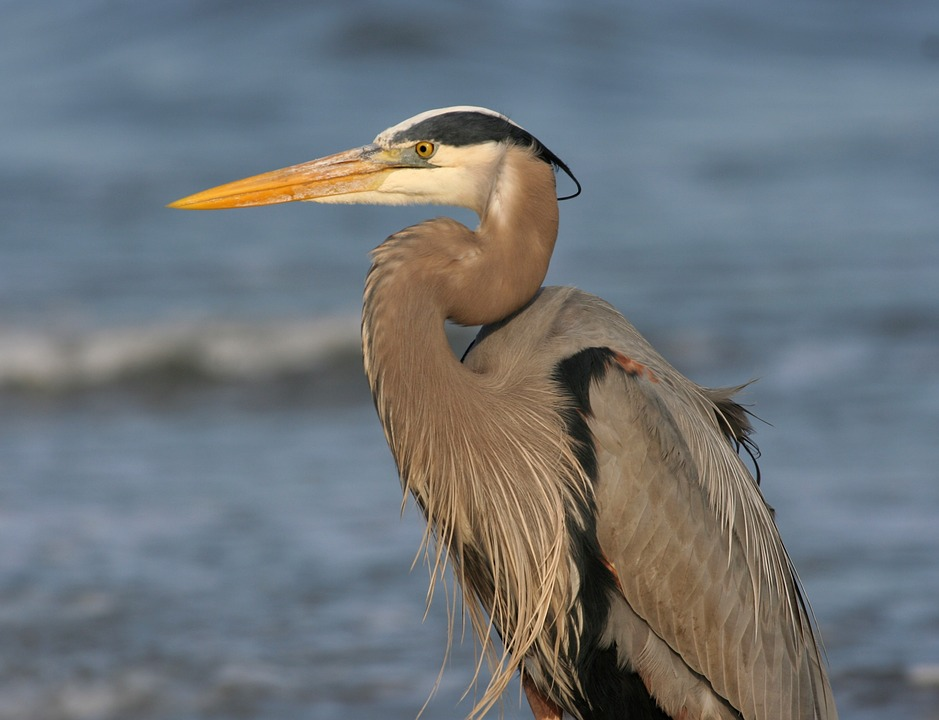heron: (165, 100, 840, 719)
